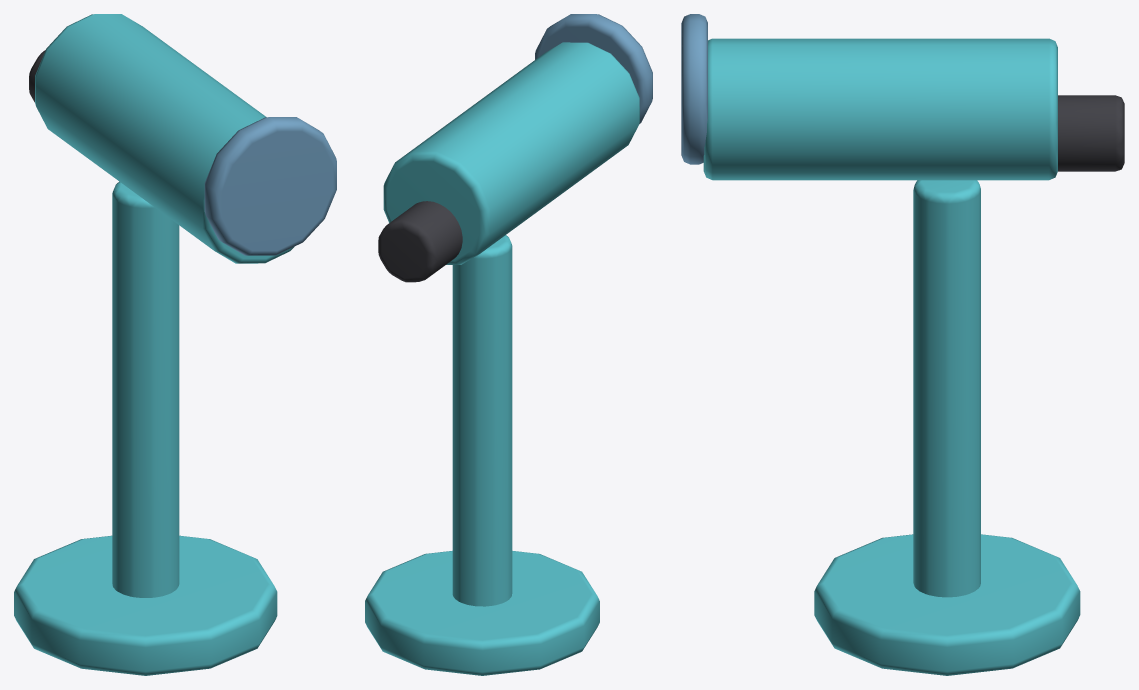
Rendered from telescope.fbx.
3 renders of one model, left to right at view 1: azimuth 30°, elevation 25°; view 2: azimuth 150°, elevation 25°; view 3: azimuth 270°, elevation 25°, orthographic. The views are drawn at different scales.
Parts seen in each view (by area): view 1: Visual; view 2: Visual; view 3: Visual.
Boxes of the visible parts, bbox=[...] form: Visual: bbox=[14, 14, 336, 675]; Visual: bbox=[365, 14, 652, 675]; Visual: bbox=[681, 14, 1124, 675].
Size of what is drawn, in the model's own units: 60 by 150 by 100.
